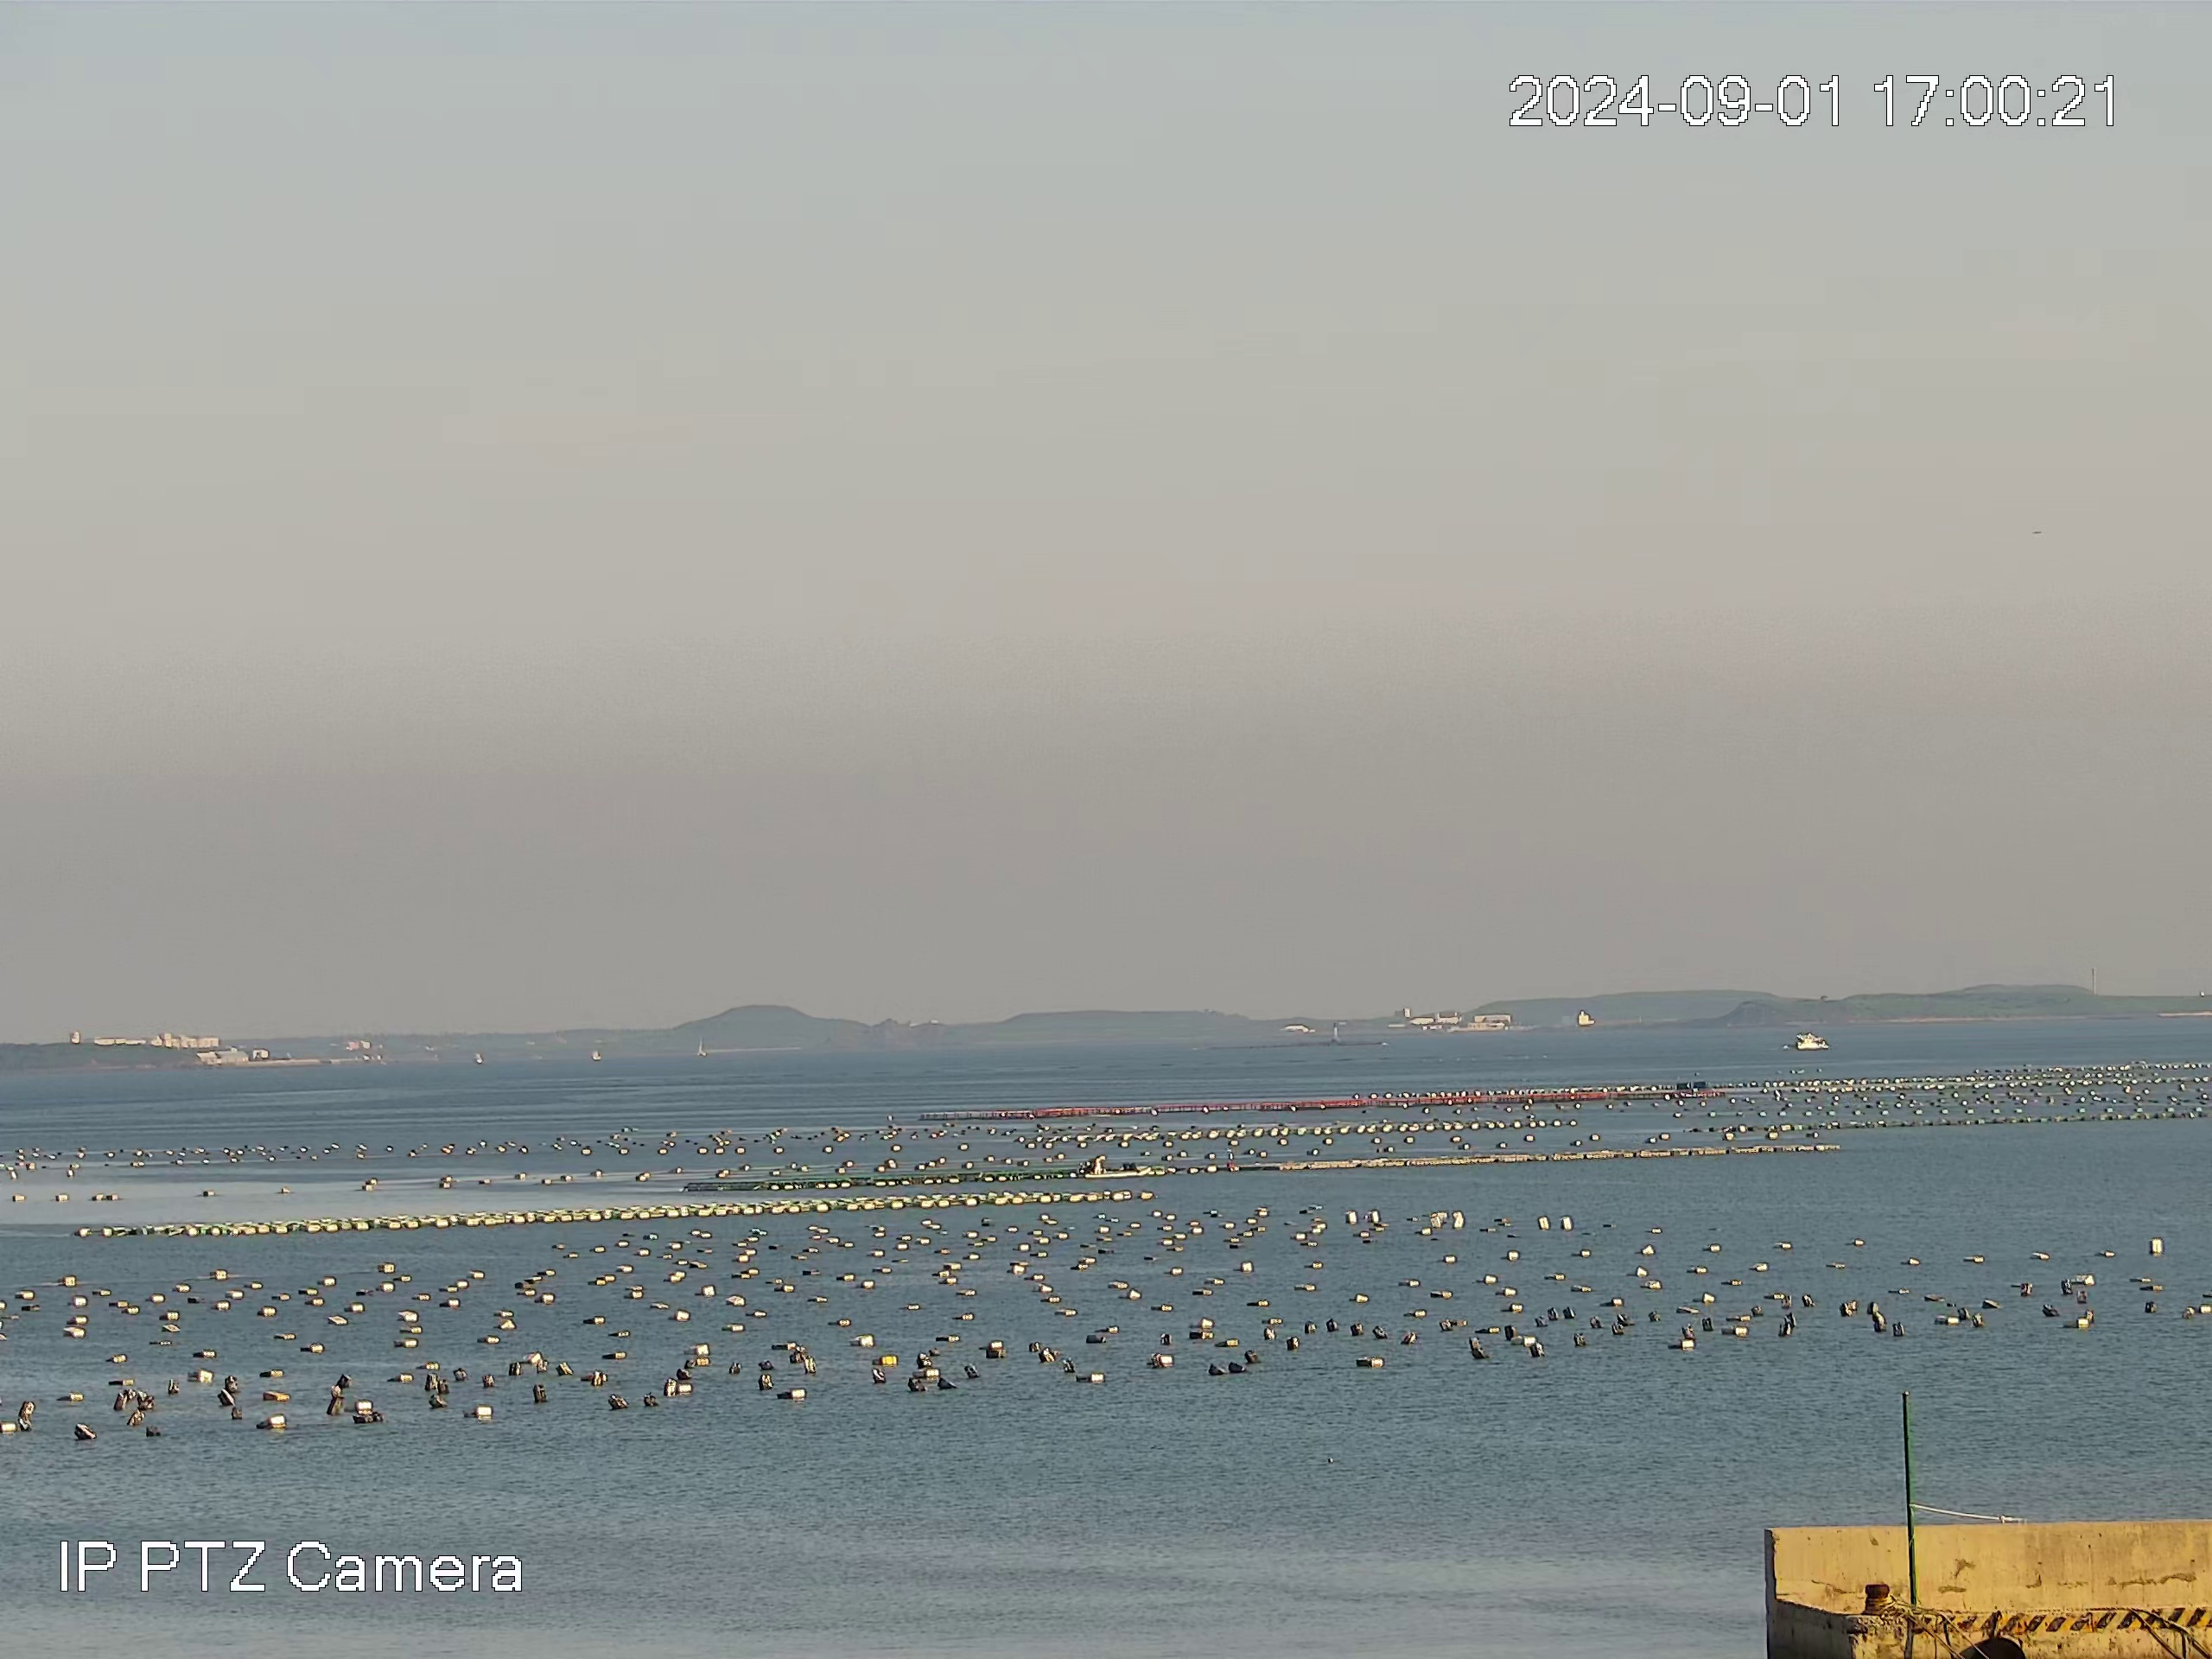boat: (1085, 1150, 1151, 1178), (1792, 1033, 1832, 1047)
